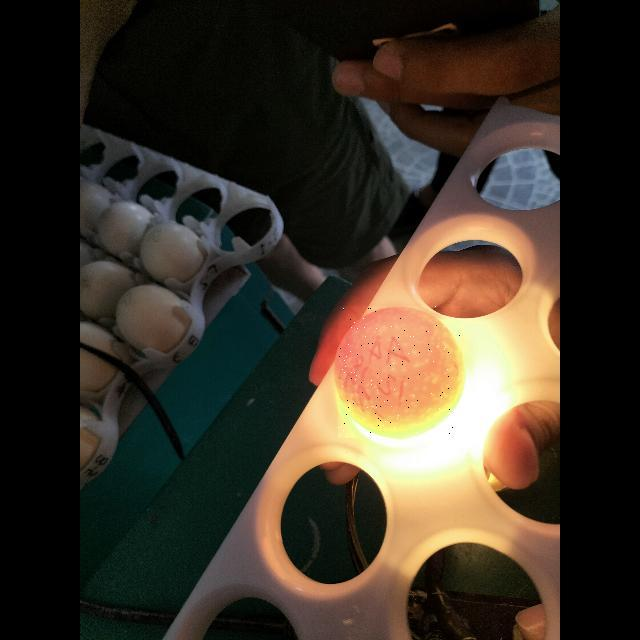Infertile: (338, 306, 460, 438)
